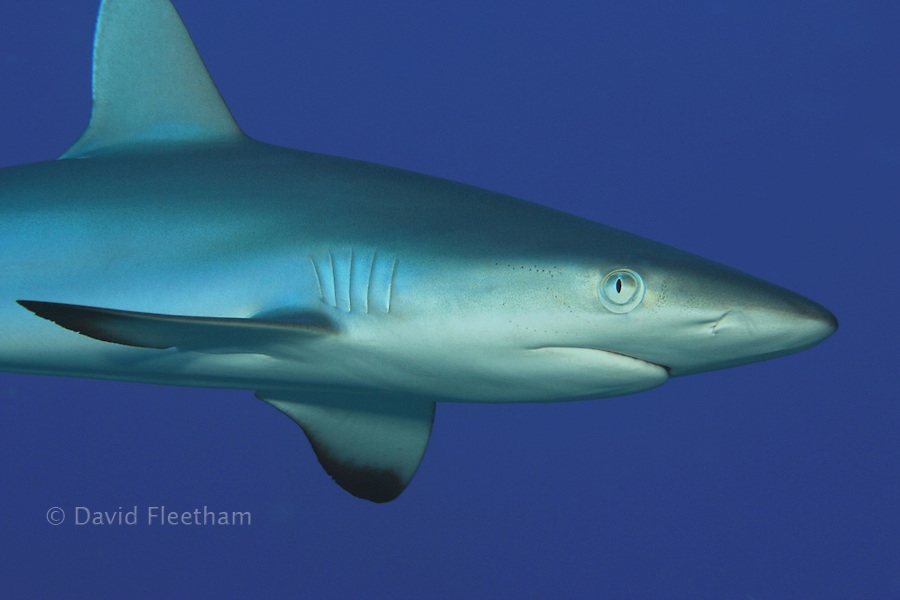Carcharhinus_amblyrhynchos: (1, 34, 869, 507)
